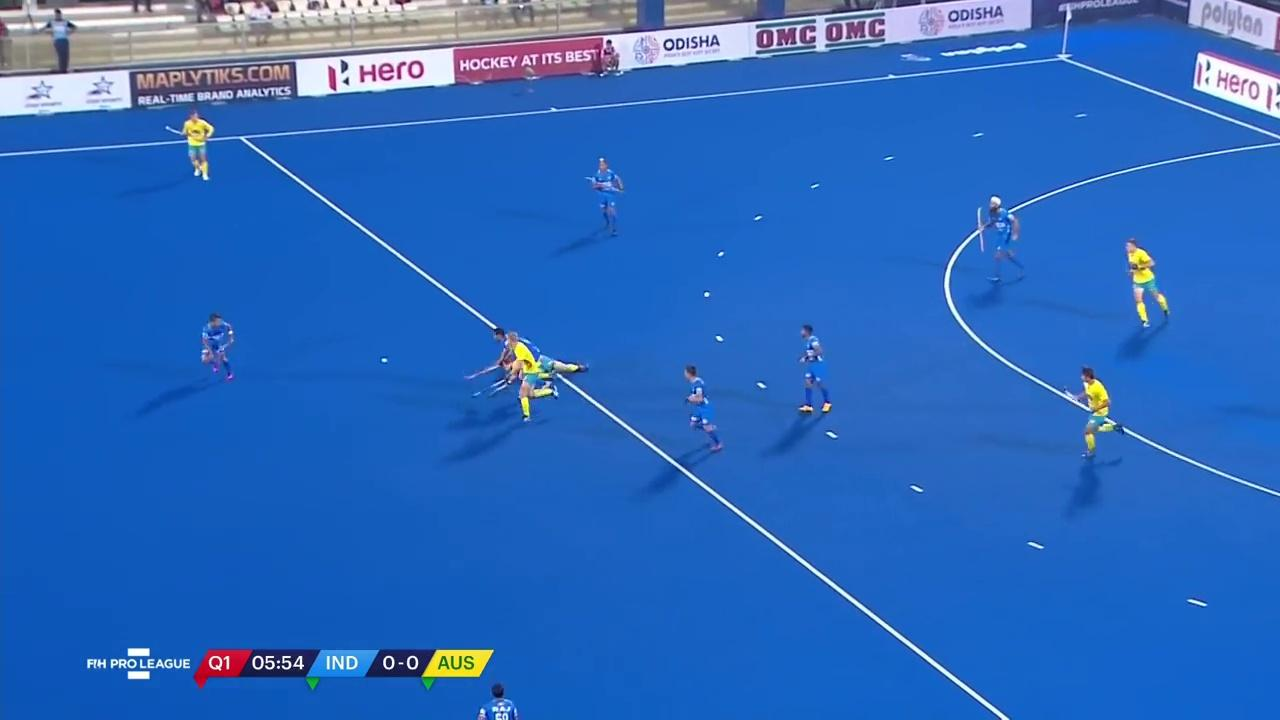ball: (378, 353, 389, 367)
